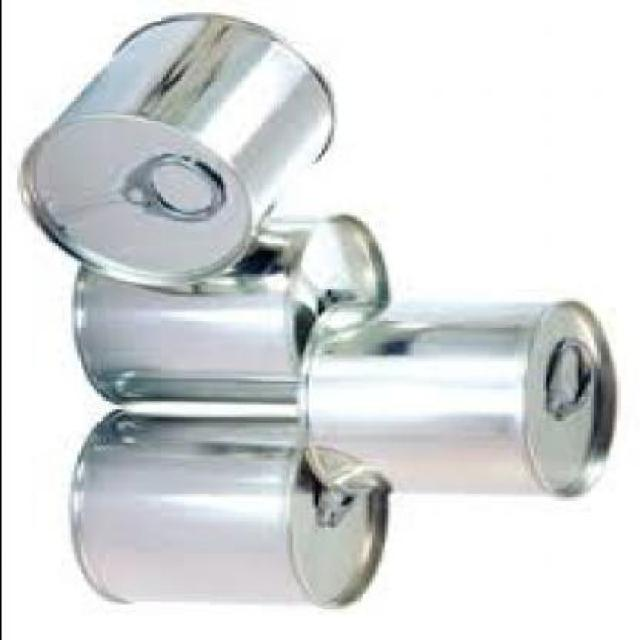METAL: (25, 10, 342, 290), (70, 407, 390, 604), (298, 300, 618, 497), (73, 213, 390, 407)
